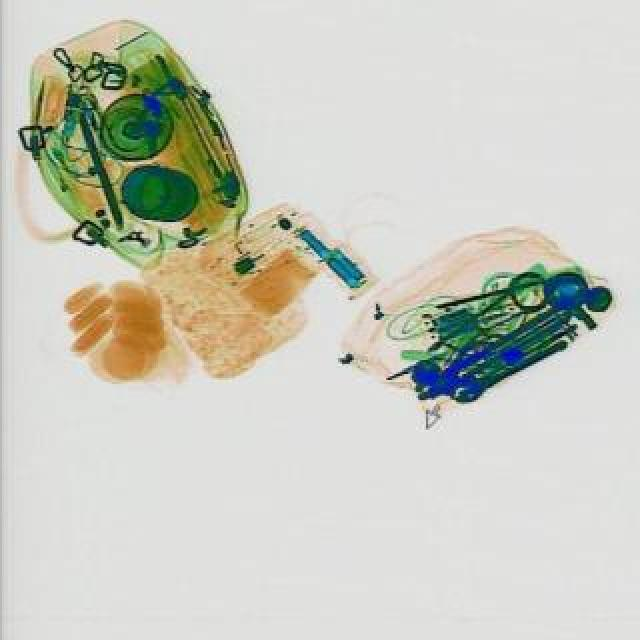scissors: (448, 336, 570, 410)
